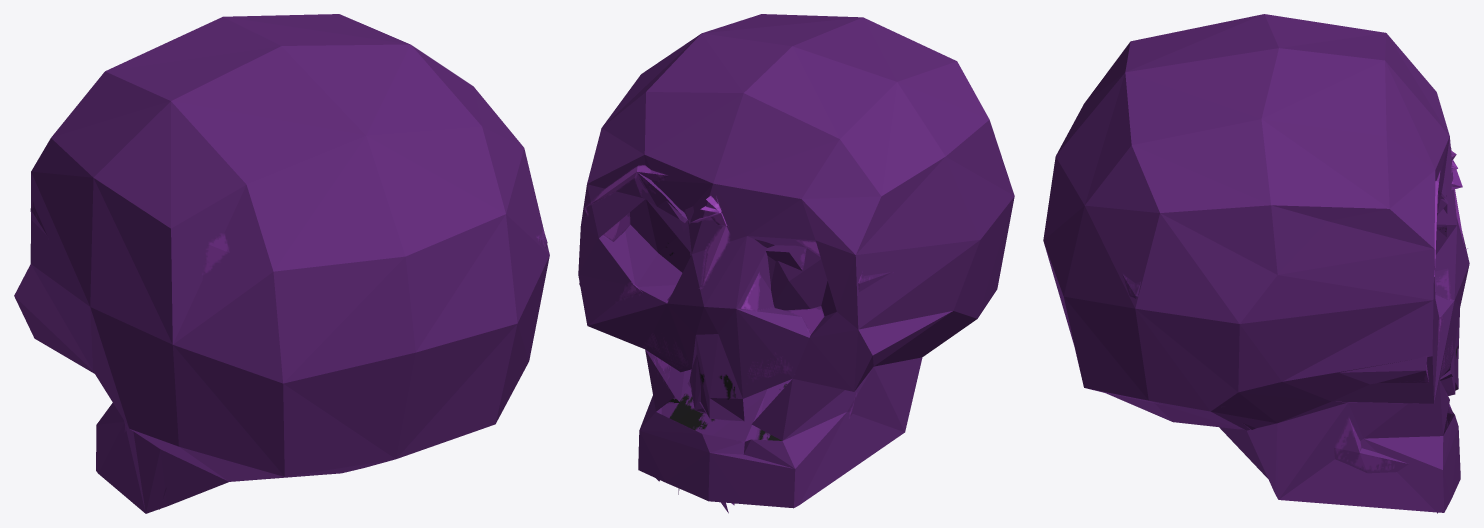
File: skull-token.glb
3 views of the same model, side by side, from view 1: azimuth 30°, elevation 25°; view 2: azimuth 150°, elevation 25°; view 3: azimuth 270°, elevation 25° (orthographic). The views are drawn at different scales.
Visible parts, largest first — view 1: world; view 2: world; view 3: world.
Part boxes in pixels (x1=…): world: x1=14, y1=14, x2=549, y2=513; world: x1=578, y1=14, x2=1014, y2=513; world: x1=1043, y1=14, x2=1469, y2=513.
Bounding box in the file's own units: 0.4385 × 0.5 × 0.427.
Materials: 1 (1 with a texture image).
